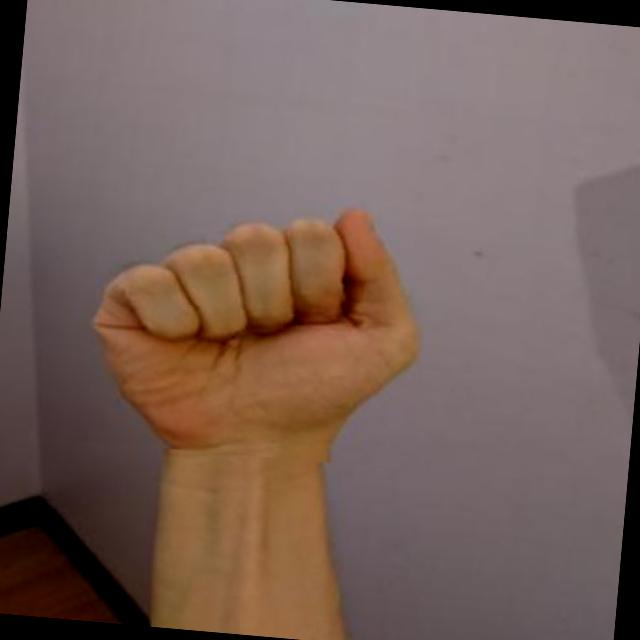A: (66, 176, 436, 470)
